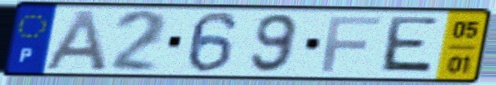2: (107, 8, 170, 74)
6: (185, 10, 240, 75)
9: (249, 12, 301, 75)
A: (40, 8, 111, 73)
E: (375, 14, 442, 77)
F: (318, 15, 383, 74)
